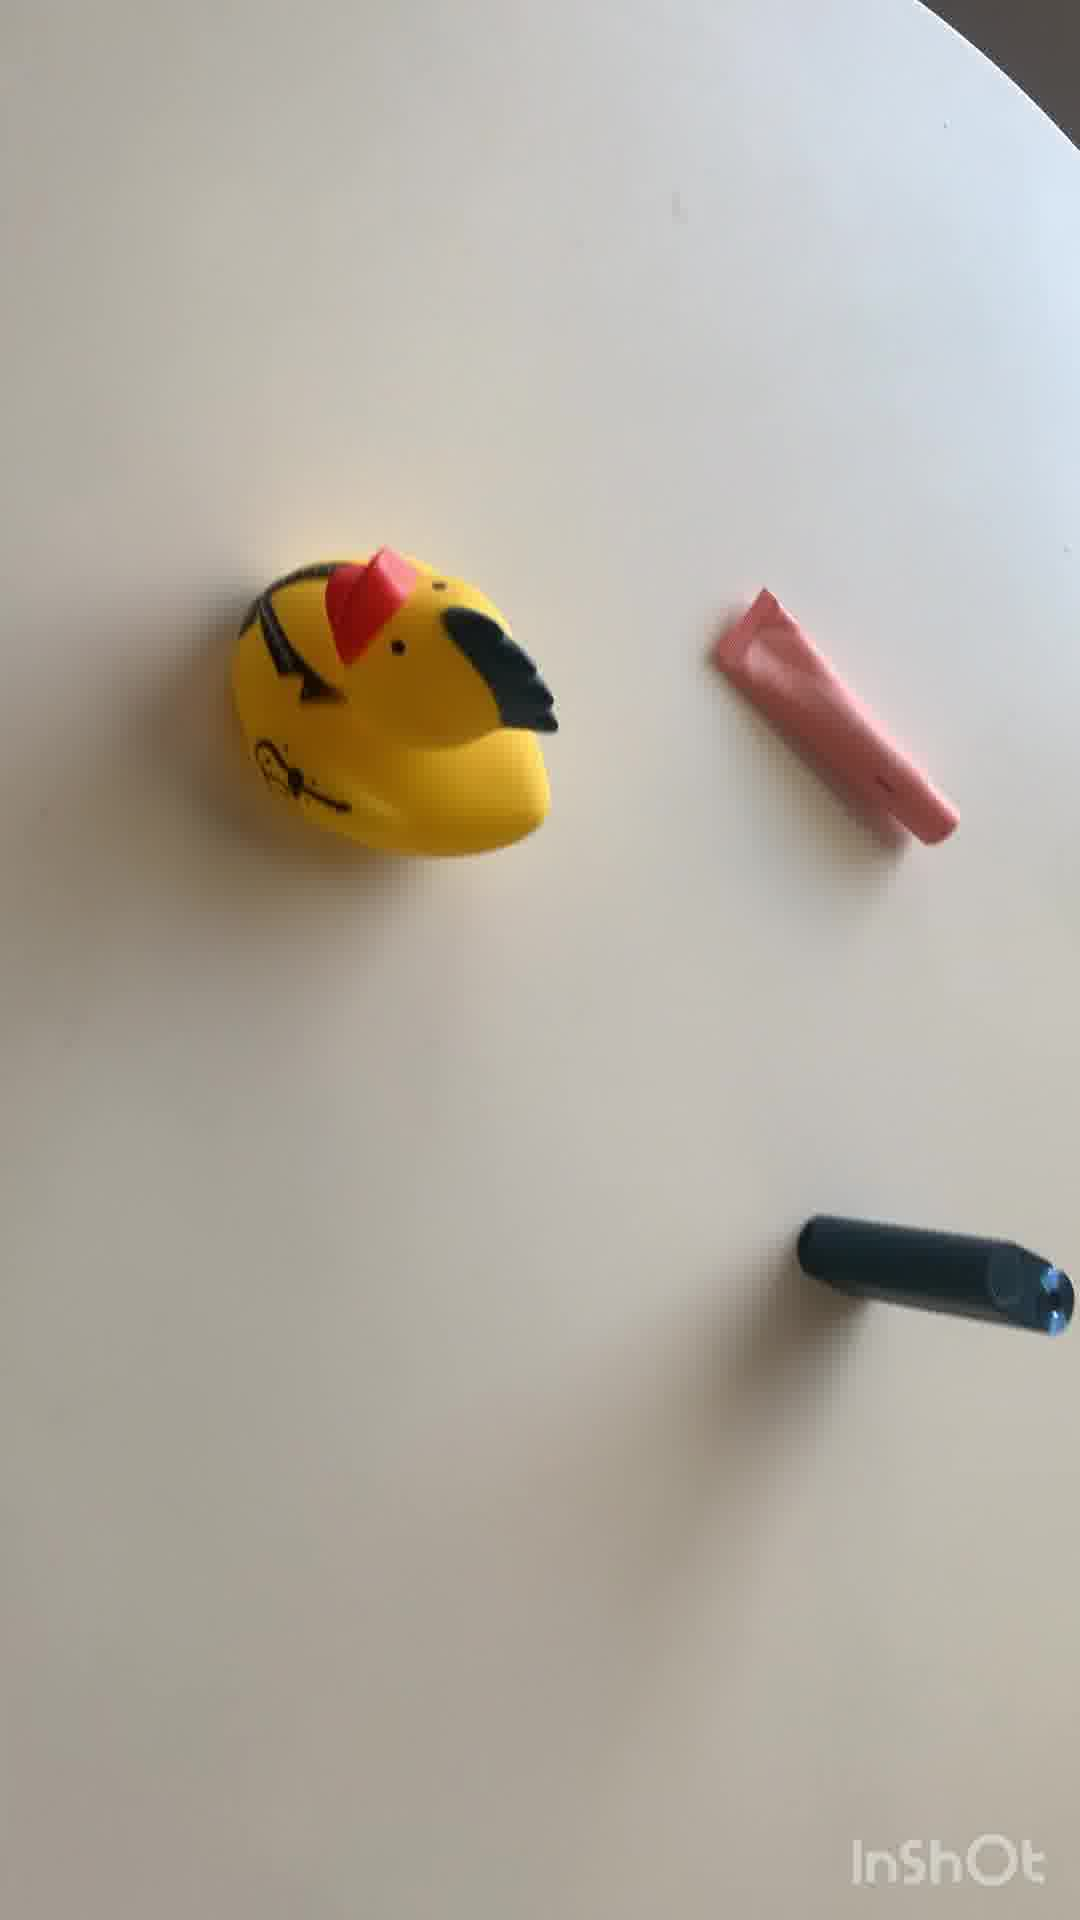duck: (215, 554, 562, 858)
glo: (793, 1218, 1080, 1335)
lip balm: (705, 597, 956, 841)
